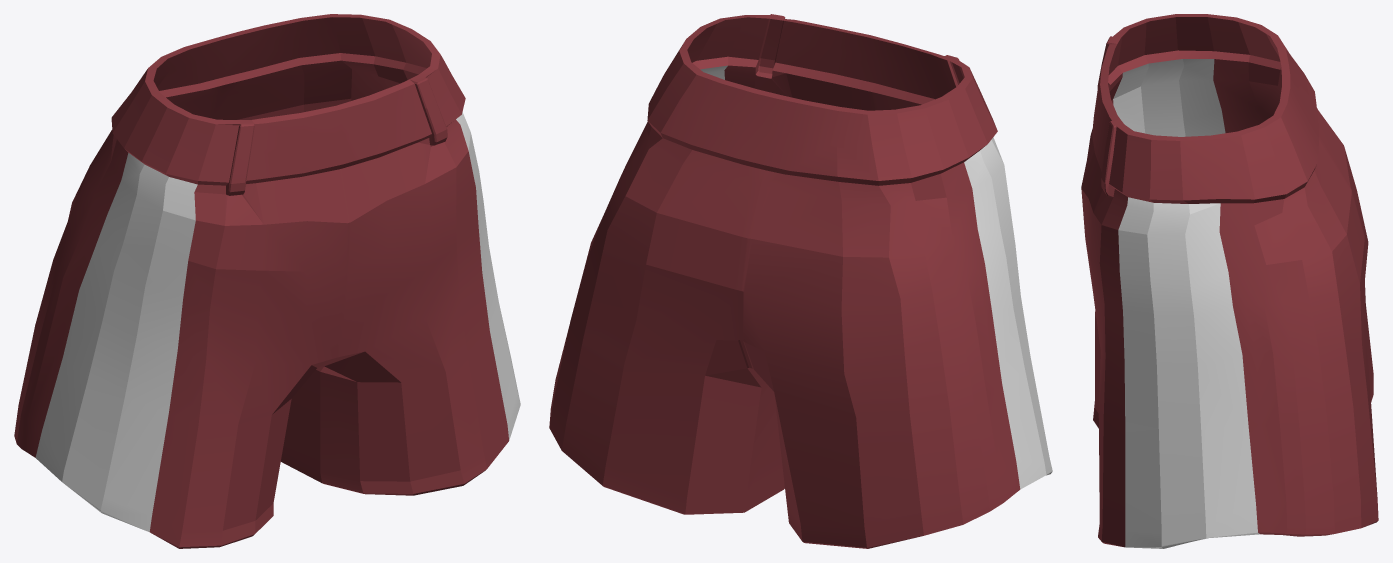
File: pants2.fbx
3 views of the same model, side by side, from view 1: azimuth 30°, elevation 25°; view 2: azimuth 150°, elevation 25°; view 3: azimuth 270°, elevation 25° (orthographic). The views are drawn at different scales.
Parts seen in each view (by area): view 1: pant2; view 2: pant2; view 3: pant2.
Part boxes in pixels (x1,y1,x2,y2): pant2: (14, 14, 520, 548); pant2: (549, 14, 1052, 548); pant2: (1081, 14, 1378, 548).
Size of the model in its own units: 118 by 104 by 68.09.
